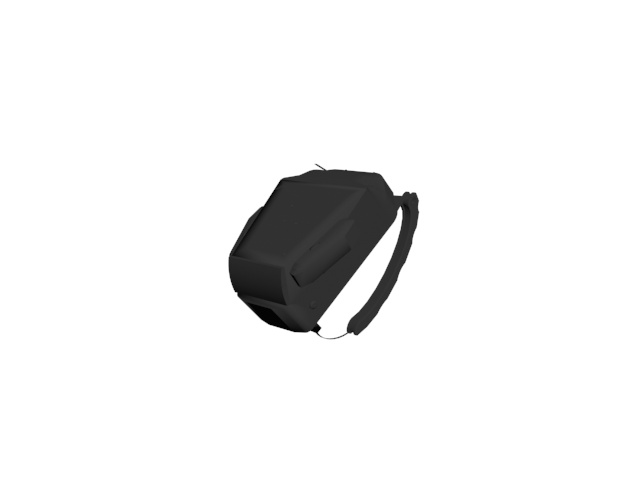back_pack: (225, 161, 424, 344)
